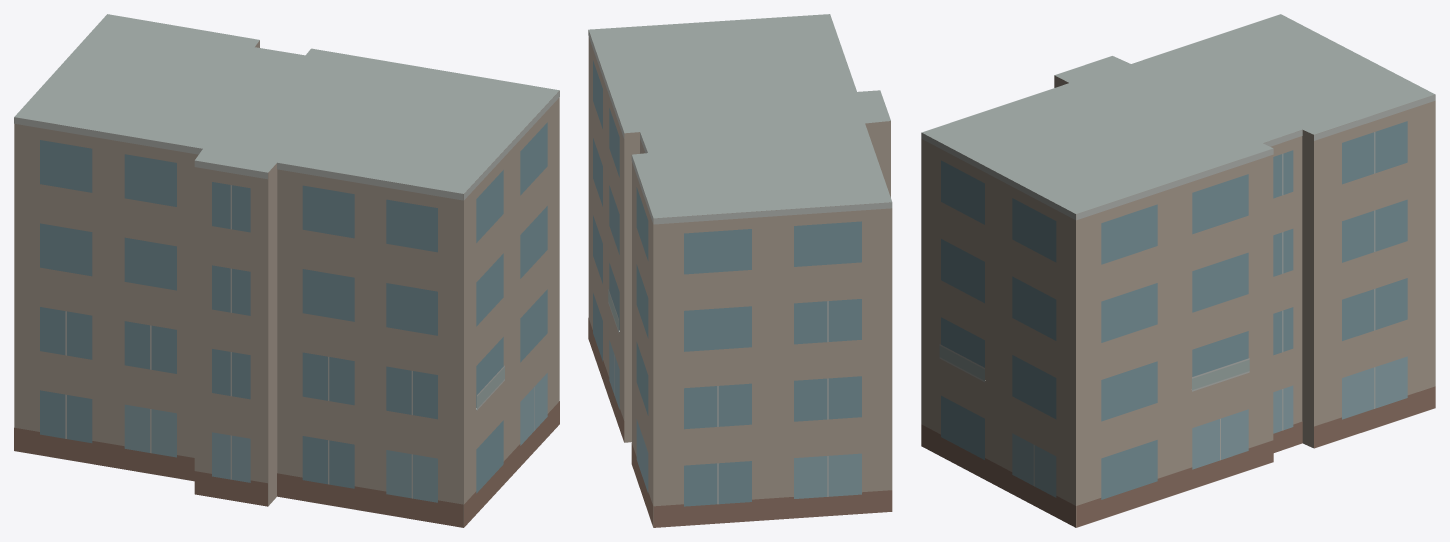
File: survey-upis-32732681.glb
3 renders of one model, left to right at view 1: azimuth 30°, elevation 25°; view 2: azimuth 150°, elevation 25°; view 3: azimuth 270°, elevation 25°, orthographic. The views are drawn at different scales.
Parts seen in each view (by area): view 1: survey-upis-32732681.tmp; view 2: survey-upis-32732681.tmp; view 3: survey-upis-32732681.tmp.
Boxes of the visible parts, x1=… form: survey-upis-32732681.tmp: x1=14, y1=14, x2=559, y2=527; survey-upis-32732681.tmp: x1=588, y1=14, x2=892, y2=527; survey-upis-32732681.tmp: x1=921, y1=14, x2=1435, y2=527.
Bounding box in the file's own units: 16.84 × 12.3 × 18.28.
